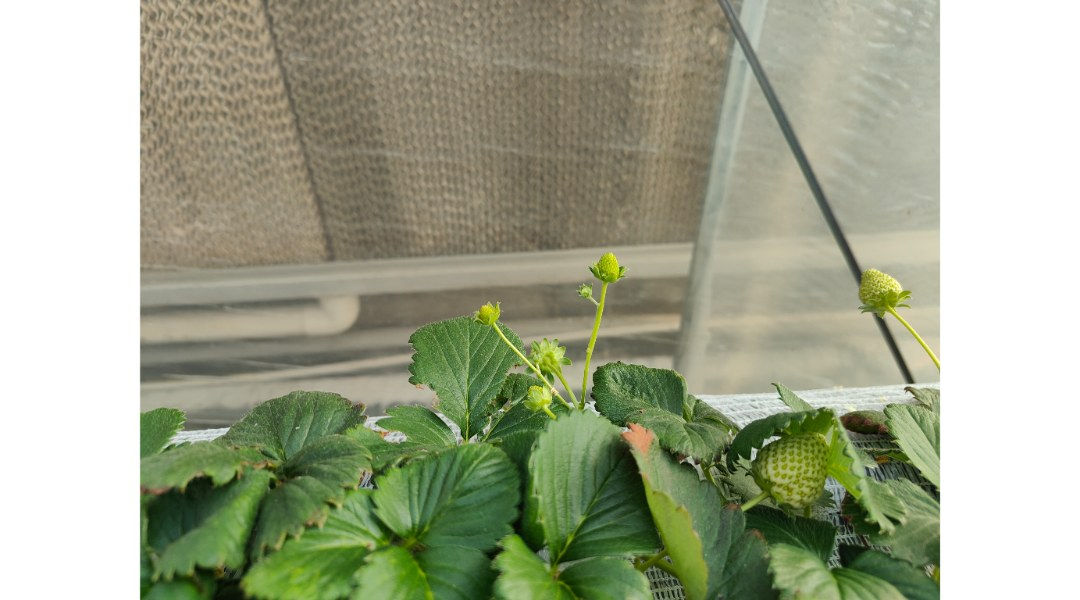berry: (752, 428, 829, 512), (851, 249, 899, 321), (582, 247, 637, 290), (517, 378, 550, 415), (534, 340, 566, 369), (473, 303, 511, 323)
strain: (885, 302, 943, 391), (585, 298, 604, 407)
